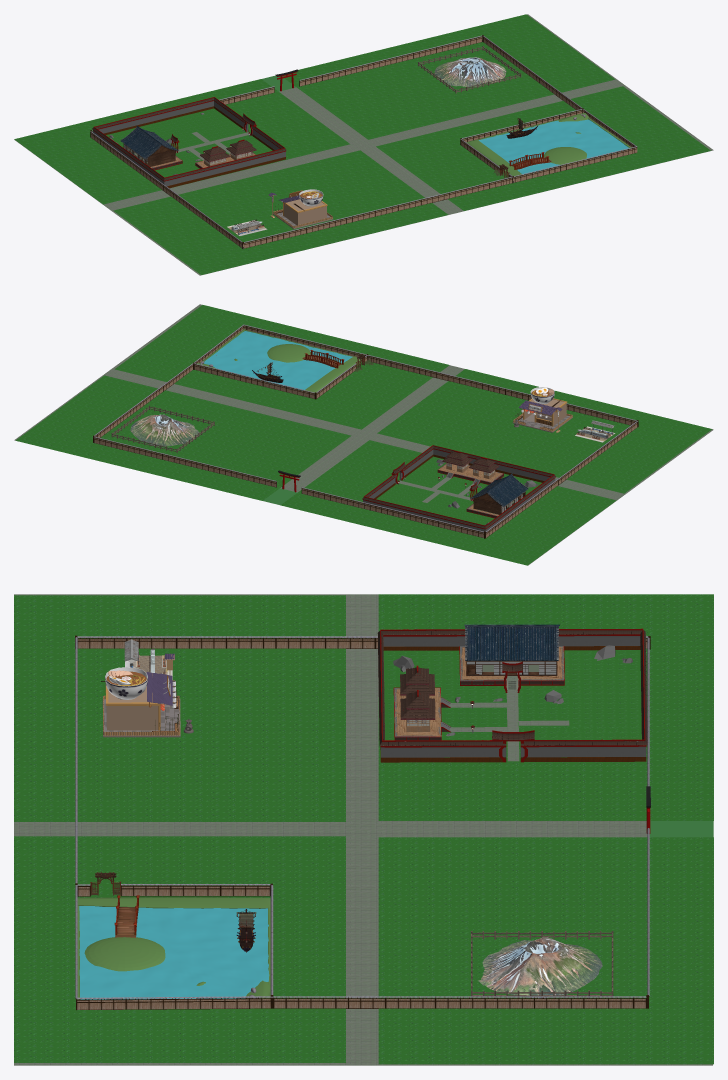
File: plazaPrincipal_optimizado.glb
3 renders of one model, top to bottom at view 1: azimuth 30°, elevation 25°; view 2: azimuth 150°, elevation 25°; view 3: azimuth 270°, elevation 25°, orthographic. The views are drawn at different scales.
Visible parts, largest first — view 1: Monte1_Templos, Plane.Principal, FenceCornerPost_MainWood_0.001, agua1, Grass_M_Grass_0, Exterior_Wall_Japanese_Wall_Module:M_TrimSheet_1024_0, Exterior_Wall76_M_TrimSheet_1024_0, Isla, Object_2.001, polySurface394_lambert5_0, Exterior_Wall_Japanese_Wall_Module:M_WoodPlank_0, MSH_Restaurant_MA_Restaurant_0 (+3 smaller); view 2: Monte1_Templos, FenceCornerPost_MainWood_0.001, Plane.Principal, agua1, Grass_M_Grass_0, Exterior_Wall_Japanese_Wall_Module:M_TrimSheet_1024_0, Exterior_Wall76_M_TrimSheet_1024_0, Isla, Object_2.001, polySurface394_lambert5_0, CercaVolcan.1, polySurface15_blinn1_0.001 (+3 smaller); view 3: Monte1_Templos, Plane.Principal, FenceCornerPost_MainWood_0.001, Grass_M_Grass_0, agua1, Exterior_Wall_Japanese_Wall_Module:M_TrimSheet_1024_0, Exterior_Wall76_M_TrimSheet_1024_0, Isla, Object_2.001, polySurface394_lambert5_0, Exterior_Wall_Japanese_Wall_Module:M_WoodPlank_0, MSH_Restaurant_MA_Restaurant_0 (+8 smaller).
Boxes of the visible parts, box(x1,y1,x2,y2) form: Monte1_Templos: box(14, 14, 710, 274); Plane.Principal: box(15, 14, 713, 275); FenceCornerPost_MainWood_0.001: box(90, 35, 637, 248); agua1: box(478, 119, 629, 174); Grass_M_Grass_0: box(106, 108, 272, 177); Exterior_Wall_Japanese_Wall_Module:M_TrimSheet_1024_0: box(92, 98, 286, 186); Exterior_Wall76_M_TrimSheet_1024_0: box(93, 97, 285, 178); Isla: box(231, 75, 631, 230); Object_2.001: box(434, 57, 506, 86); polySurface394_lambert5_0: box(120, 125, 178, 158); Exterior_Wall_Japanese_Wall_Module:M_WoodPlank_0: box(104, 106, 285, 188); MSH_Restaurant_MA_Restaurant_0: box(283, 199, 327, 225); Monte1_Templos: box(15, 305, 712, 565); FenceCornerPost_MainWood_0.001: box(93, 324, 638, 538); Plane.Principal: box(14, 304, 713, 565); agua1: box(204, 331, 352, 390); Grass_M_Grass_0: box(376, 456, 541, 525); Exterior_Wall_Japanese_Wall_Module:M_TrimSheet_1024_0: box(362, 446, 555, 532); Exterior_Wall76_M_TrimSheet_1024_0: box(364, 445, 554, 526); Isla: box(197, 329, 608, 505); Object_2.001: box(130, 414, 199, 446); polySurface394_lambert5_0: box(470, 473, 528, 506); CercaVolcan.1: box(111, 405, 214, 452); polySurface15_blinn1_0.001: box(575, 420, 615, 442); Monte1_Templos: box(14, 594, 713, 1064); Plane.Principal: box(14, 594, 712, 1065); FenceCornerPost_MainWood_0.001: box(75, 635, 650, 1010); Grass_M_Grass_0: box(383, 650, 641, 761); agua1: box(79, 906, 269, 999); Exterior_Wall_Japanese_Wall_Module:M_TrimSheet_1024_0: box(377, 630, 647, 757); Exterior_Wall76_M_TrimSheet_1024_0: box(380, 628, 645, 762); Isla: box(77, 649, 713, 999); Object_2.001: box(478, 937, 602, 998); polySurface394_lambert5_0: box(464, 624, 559, 660); Exterior_Wall_Japanese_Wall_Module:M_WoodPlank_0: box(380, 646, 646, 762); MSH_Restaurant_MA_Restaurant_0: box(105, 684, 160, 730).
Bounding box in the file's own units: 316 × 18.77 × 198.
47 materials, 44 textured.
